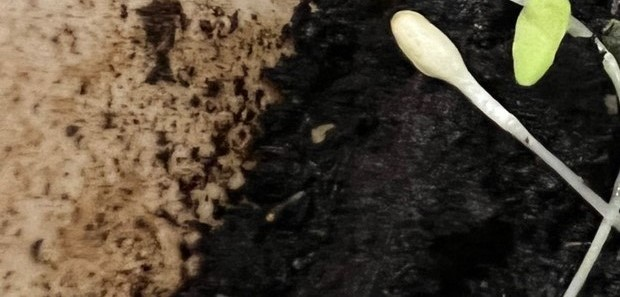week1: (362, 8, 484, 117)
